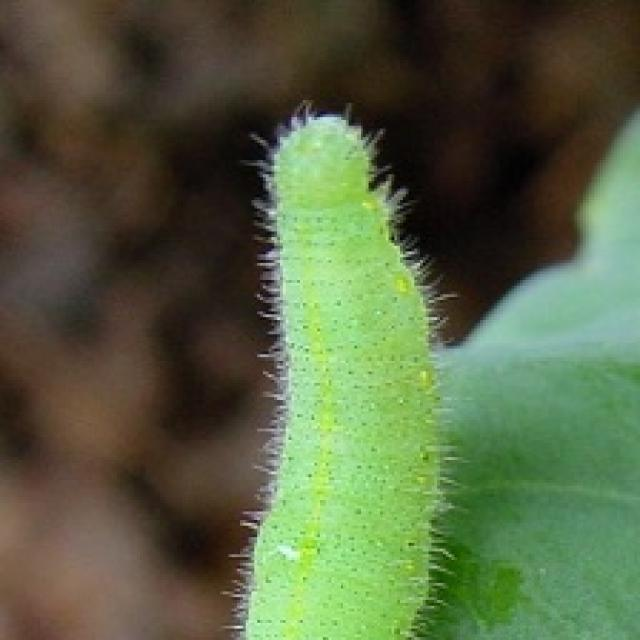Cabbage-worm: (206, 85, 503, 640)
